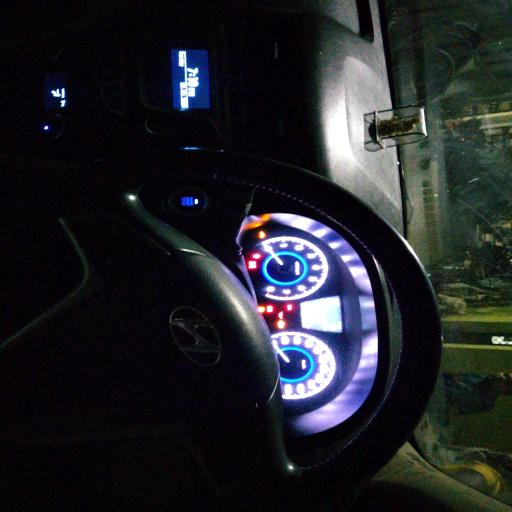tachometer: (254, 236, 330, 300)
